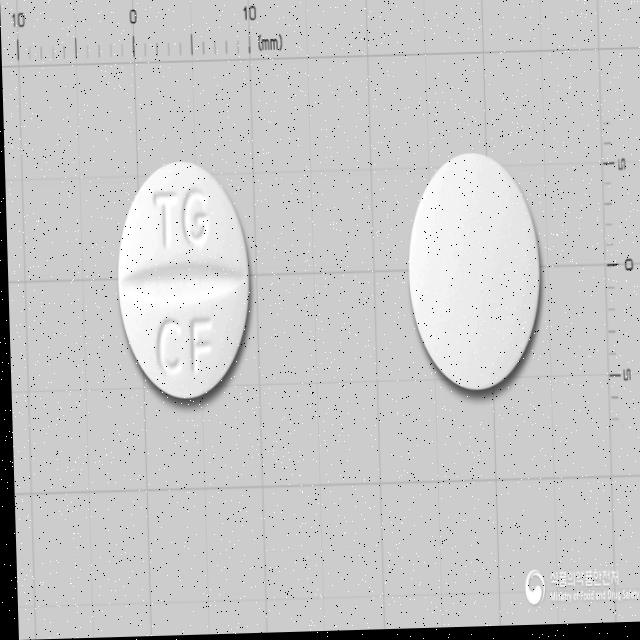Taiguk Ciprofloxacin HCl Tab: (114, 161, 251, 403)
